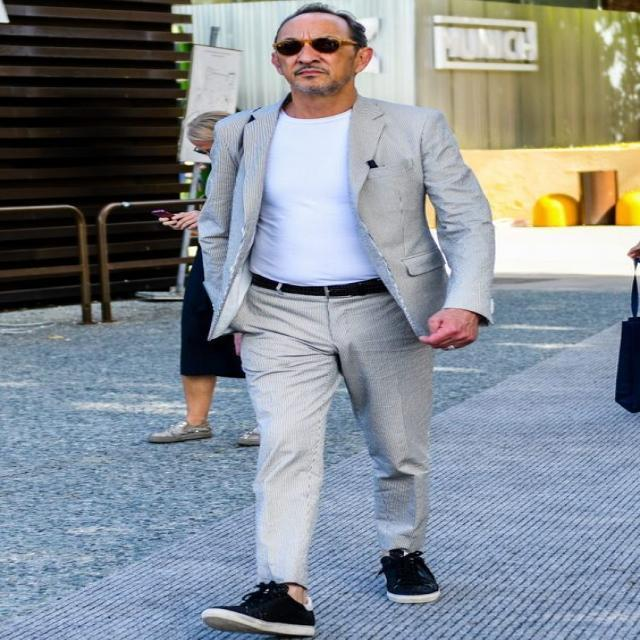direk: (178, 10, 504, 628), (156, 108, 252, 448)
